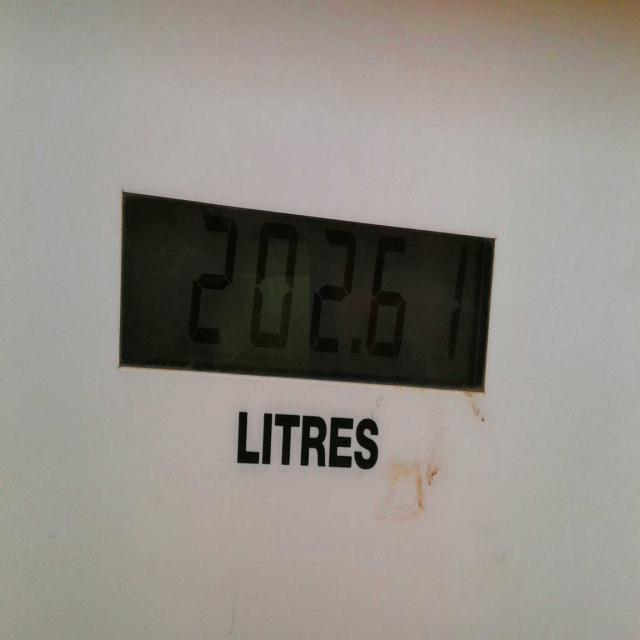.: (356, 336, 364, 366)
0: (255, 218, 296, 352)
1: (448, 240, 469, 366)
2: (310, 225, 353, 357), (192, 214, 235, 343)
6: (369, 231, 412, 359)
